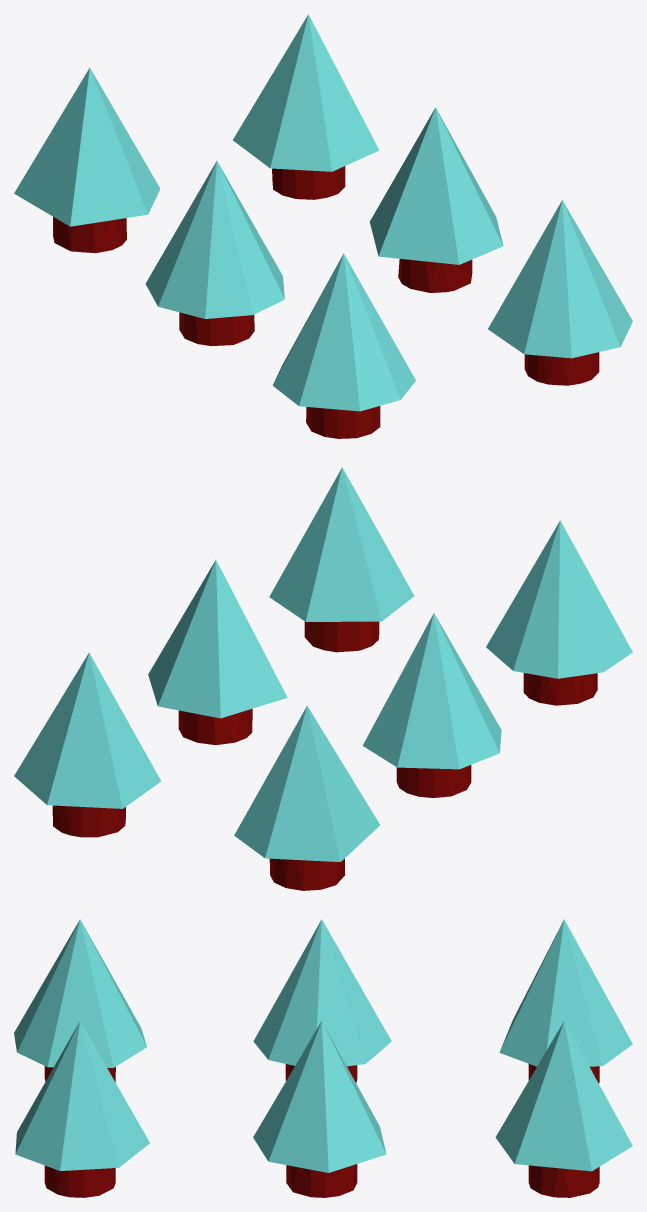
Rendered from GroundSpikes.fbx.
The picture shows the model from 3 angles, top to bottom: view 1: azimuth 30°, elevation 25°; view 2: azimuth 150°, elevation 25°; view 3: azimuth 270°, elevation 25°; orthographic projection. The views are drawn at different scales.
Parts seen in each view (by area): view 1: Cone.007, Cylinder.014; view 2: Cone.007, Cylinder.014; view 3: Cone.007, Cylinder.014.
Boxes of the visible parts, x1=… form: Cone.007: x1=14, y1=14, x2=632, y2=411; Cylinder.014: x1=53, y1=166, x2=599, y2=438; Cone.007: x1=14, y1=467, x2=632, y2=861; Cylinder.014: x1=52, y1=621, x2=597, y2=890; Cone.007: x1=14, y1=919, x2=632, y2=1172; Cylinder.014: x1=44, y1=1064, x2=599, y2=1197.
Bounding box in the file's own units: 94.97 × 44.68 × 155.
